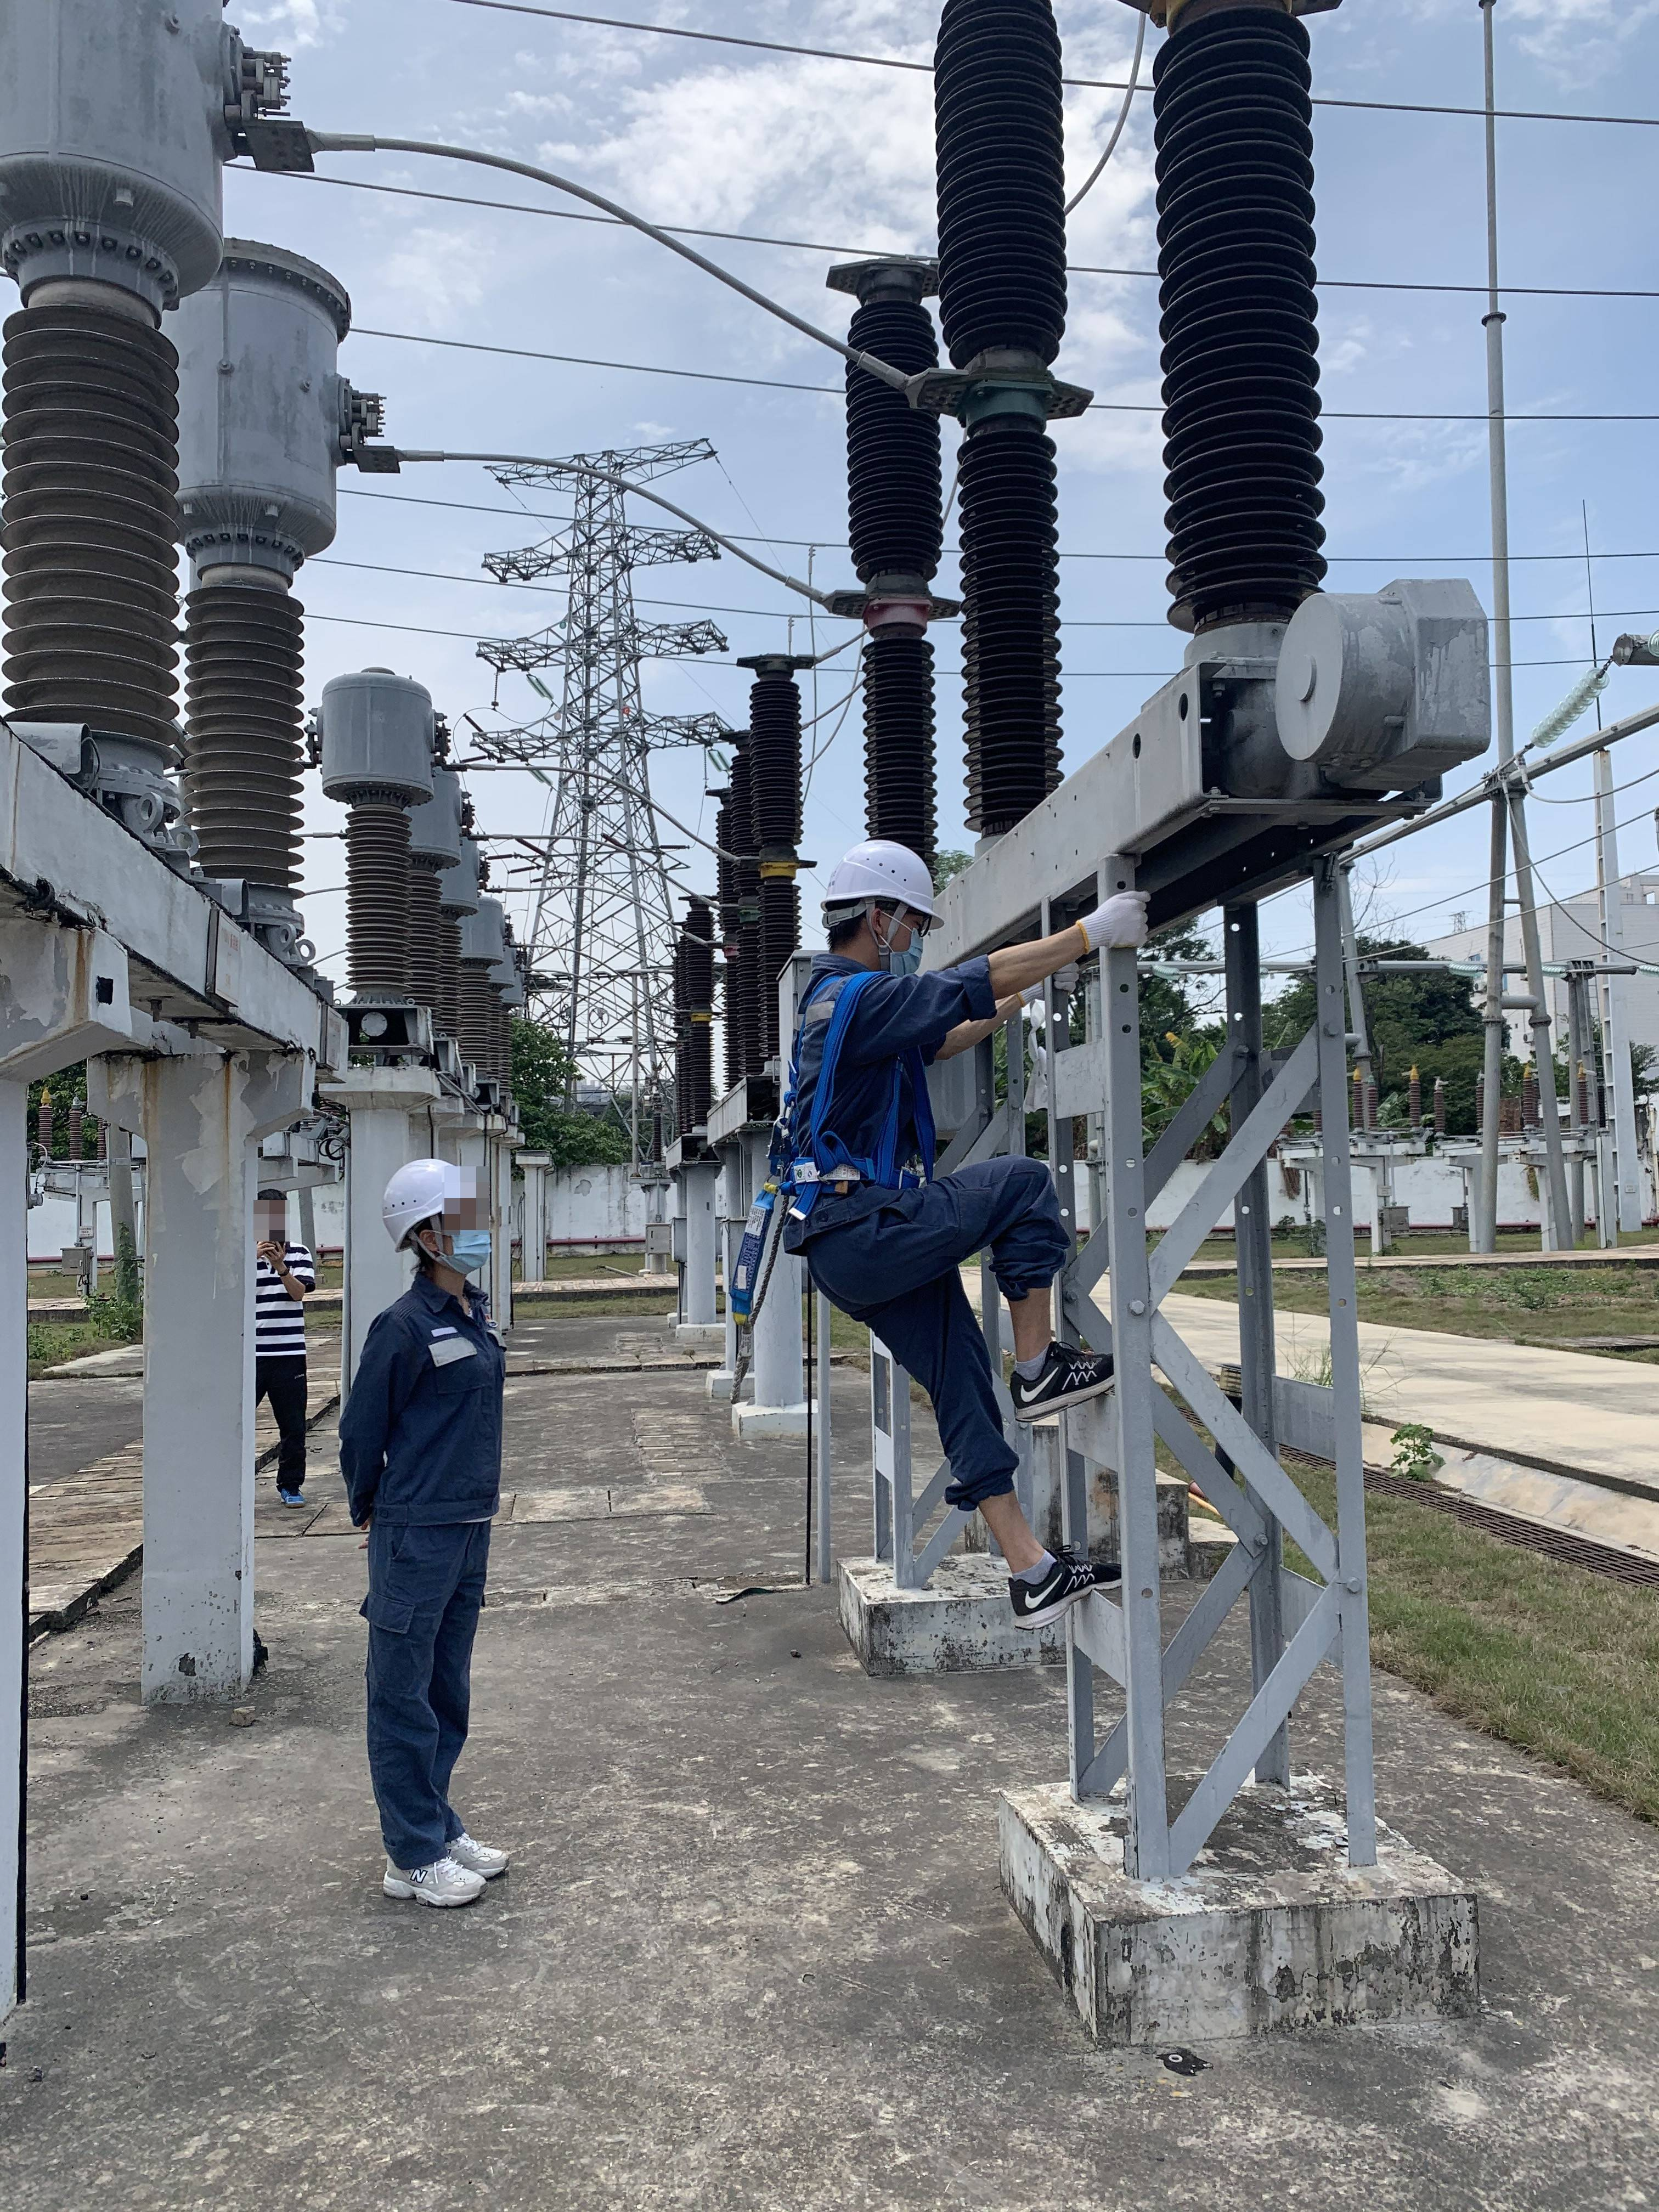downsuit: (824, 1174, 1080, 1501), (352, 1538, 498, 1857)
upsuit: (333, 1291, 526, 1526), (762, 953, 983, 1143)
wrongbottom: (948, 1470, 1061, 1627), (986, 1249, 1096, 1381)
wrongtop: (962, 932, 1110, 1014)
